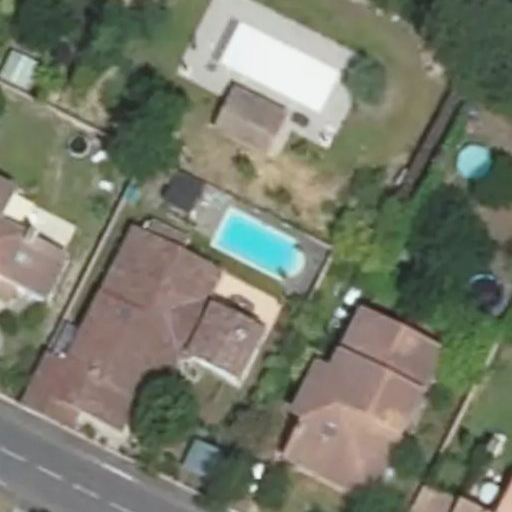pool: (212, 242, 306, 246)
